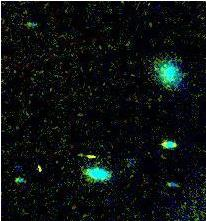star: (72, 143, 102, 173)
